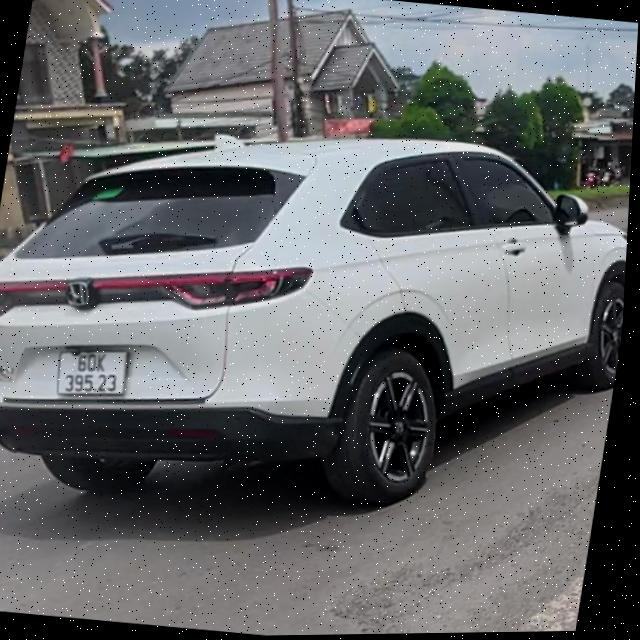car: (0, 90, 635, 545)
plate: (50, 336, 146, 410)
